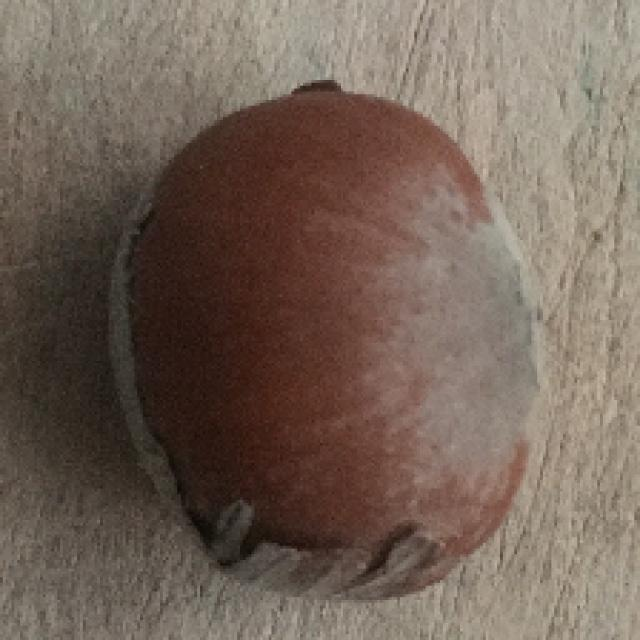damagedHazelnut: (103, 75, 558, 579)
